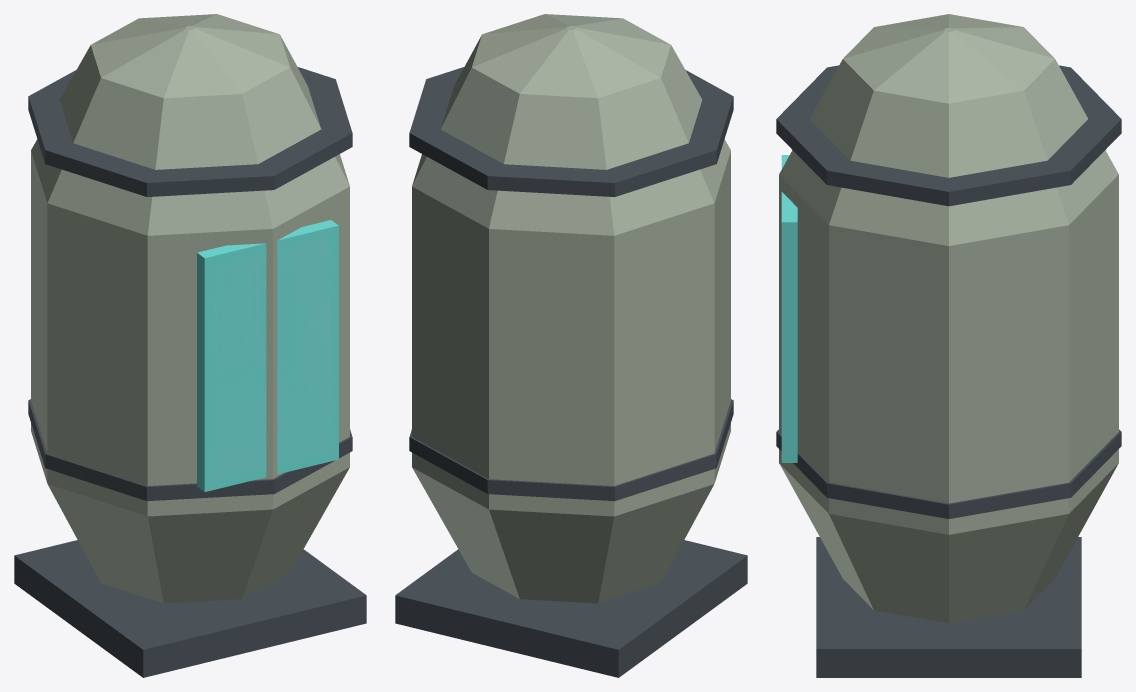
The model's file is SH_ContainmentPod_01.glb.
3 renders of one model, left to right at view 1: azimuth 30°, elevation 25°; view 2: azimuth 150°, elevation 25°; view 3: azimuth 270°, elevation 25°, orthographic. The views are drawn at different scales.
Parts seen in each view (by area): view 1: SH_ContainmentPod_01; view 2: SH_ContainmentPod_01; view 3: SH_ContainmentPod_01.
Boxes of the visible parts, x1,y1,x2,y2 form: SH_ContainmentPod_01: [14, 14, 366, 677]; SH_ContainmentPod_01: [395, 14, 747, 677]; SH_ContainmentPod_01: [776, 14, 1121, 677].
Bounding box in the file's own units: 0.65 × 1.23 × 0.65.
Materials: 2 (2 with a texture image).
